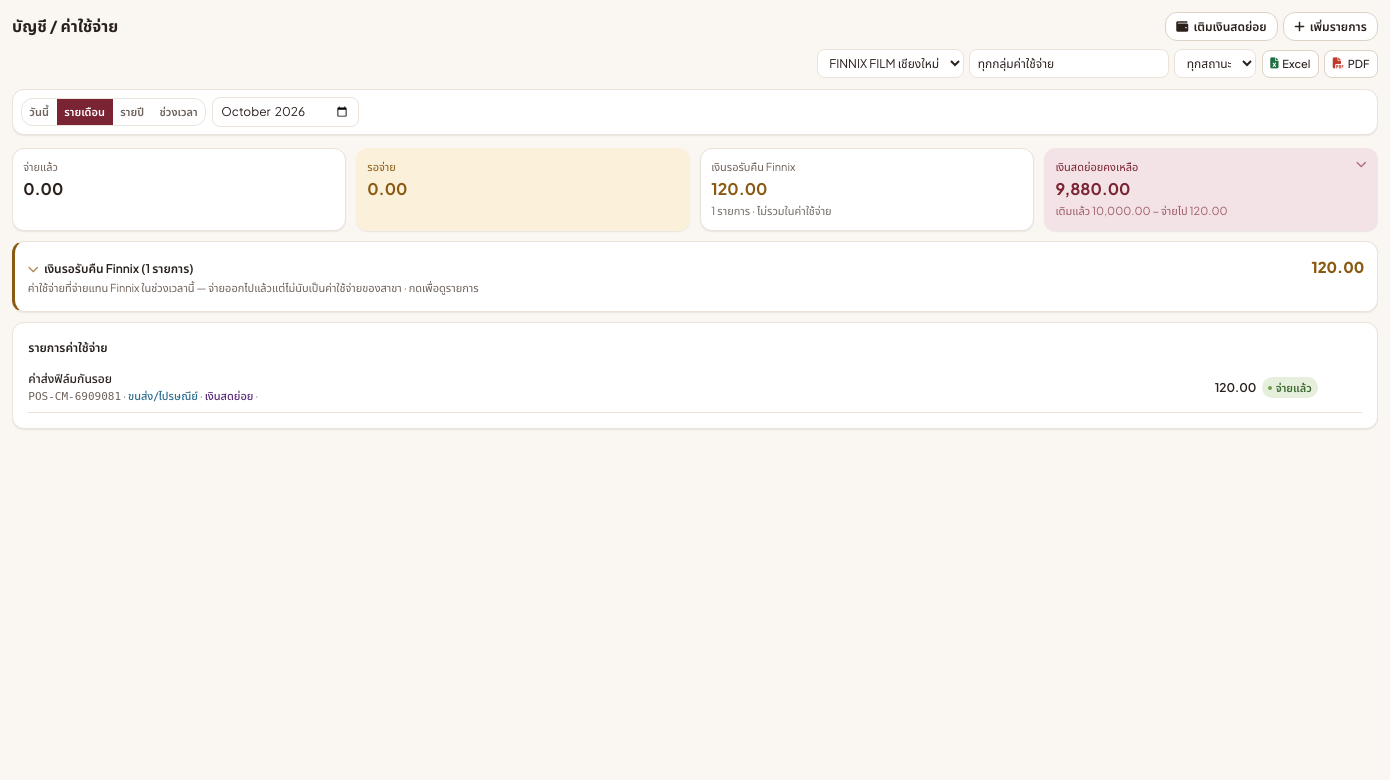
it: AccountingModule — เงินรอรับคืน Finnix › opens the rows when the heading is pressed
Click the button "เงินรอรับคืน Finnix": {"x": 95, "y": 269} 28,254 -> 1364,296
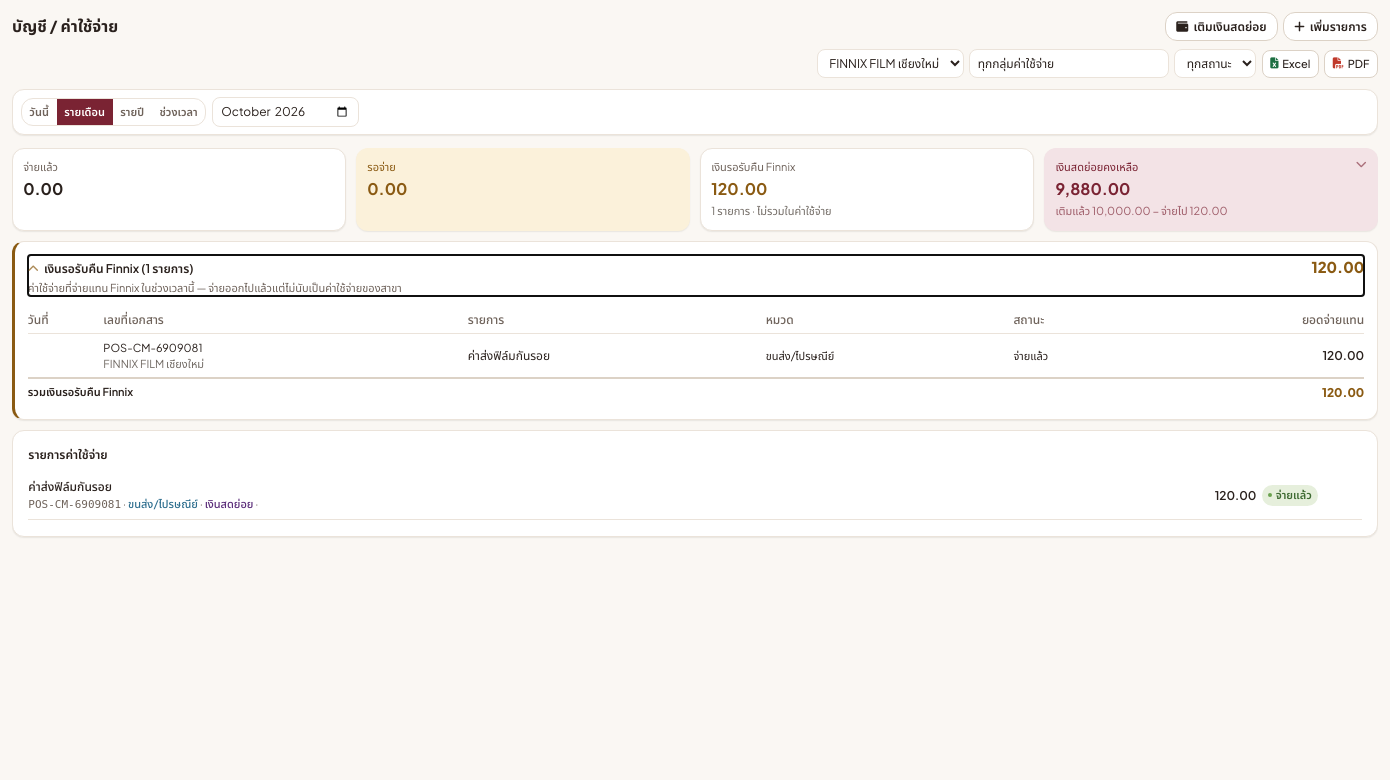
expect the button "เงินรอรับคืน Finnix" is expanded: met, box 28,254 -> 1364,296
expect the text "POS-CM-6909081" is shown: met, box 103,341 -> 202,354
